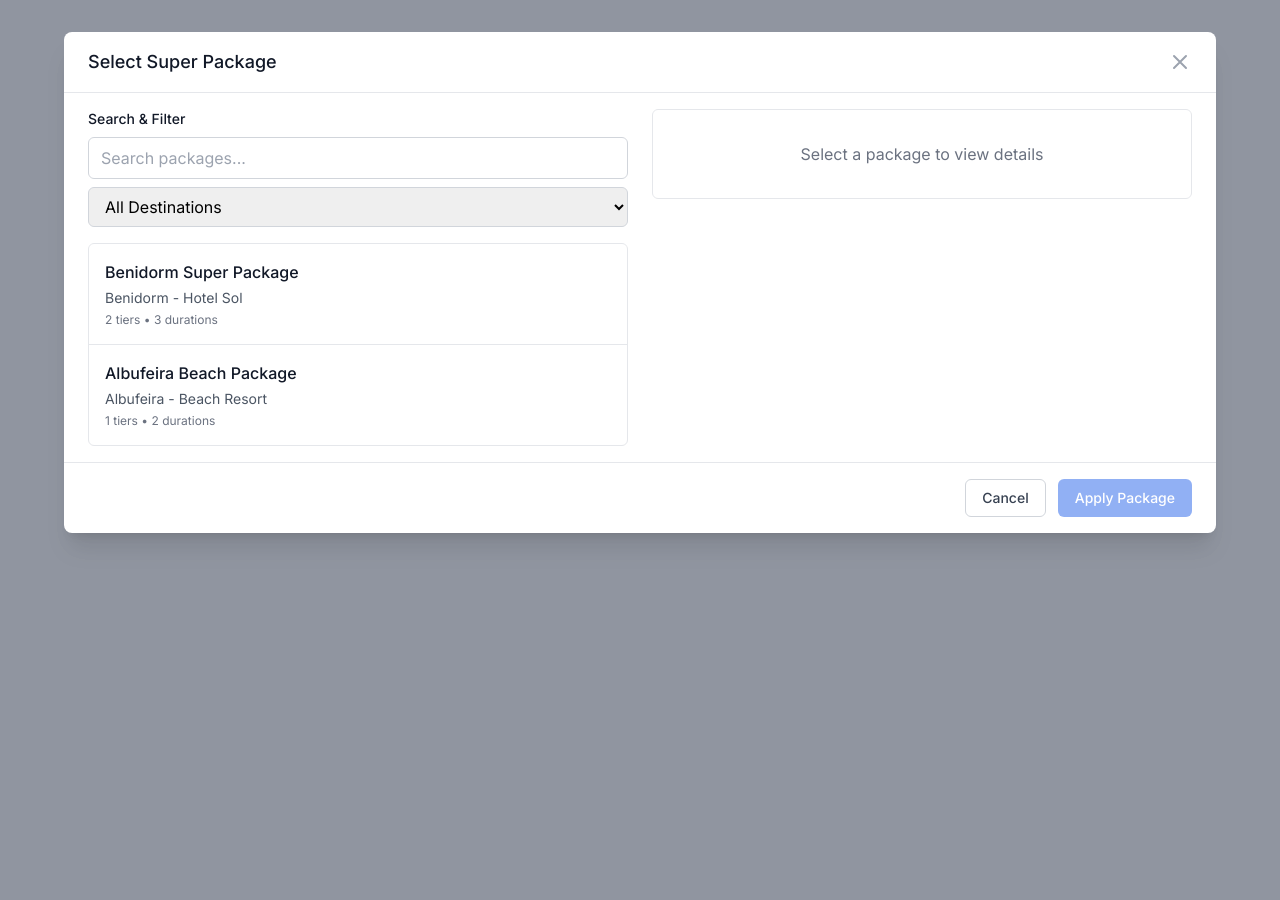
PackageSelector › should filter packages by destination
The image size is (1280, 900).
Check: the text "Benidorm Super Package" is shown, box top-left (105, 262), bottom-right (299, 282)
Step 1. Select "Albufeira" in the dropdown → point(358, 207), box top-left (88, 187), bottom-right (628, 227)
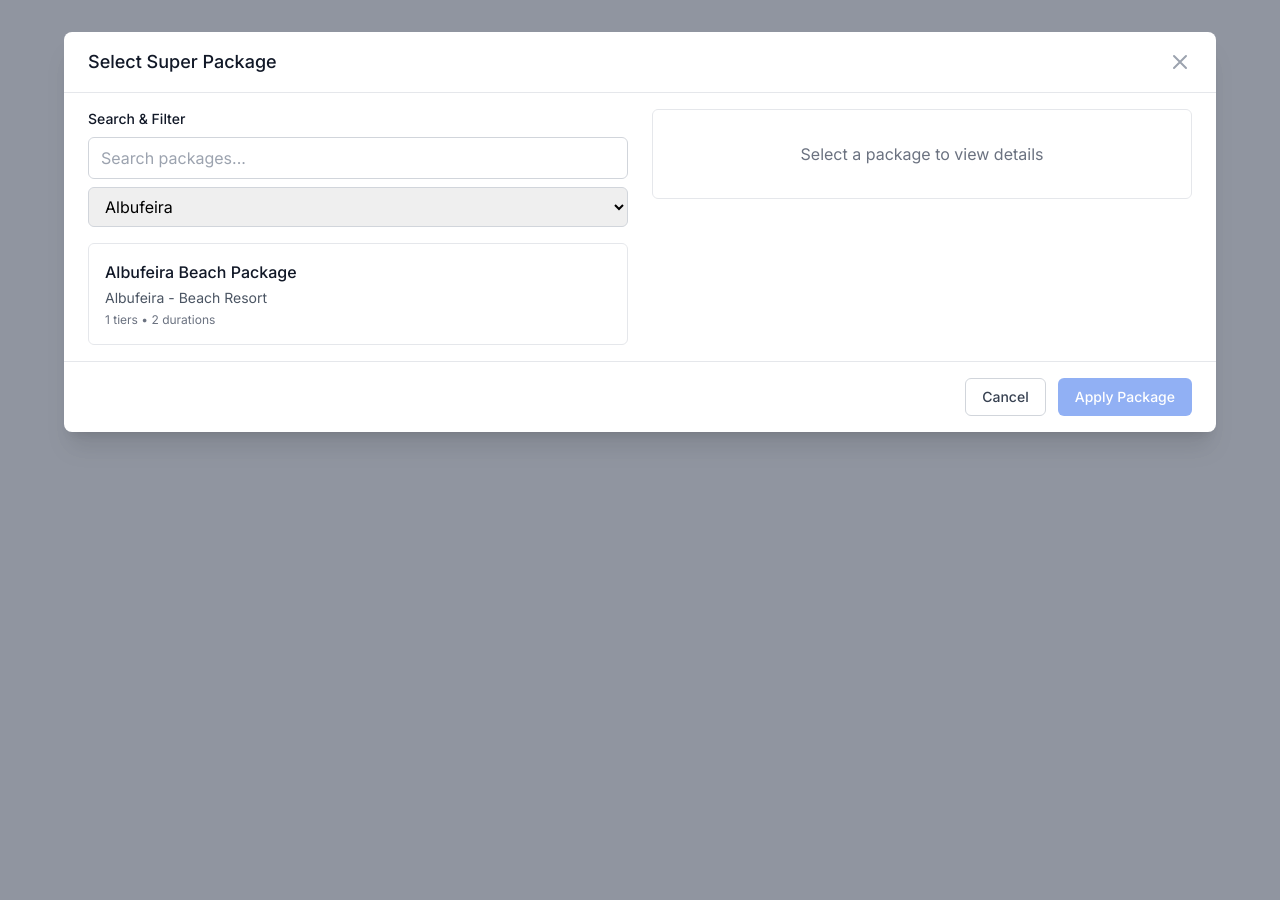
Check: the text "Albufeira Beach Package" is shown, box top-left (105, 262), bottom-right (297, 282)
Check: the button "Benidorm Super Package" is gone
